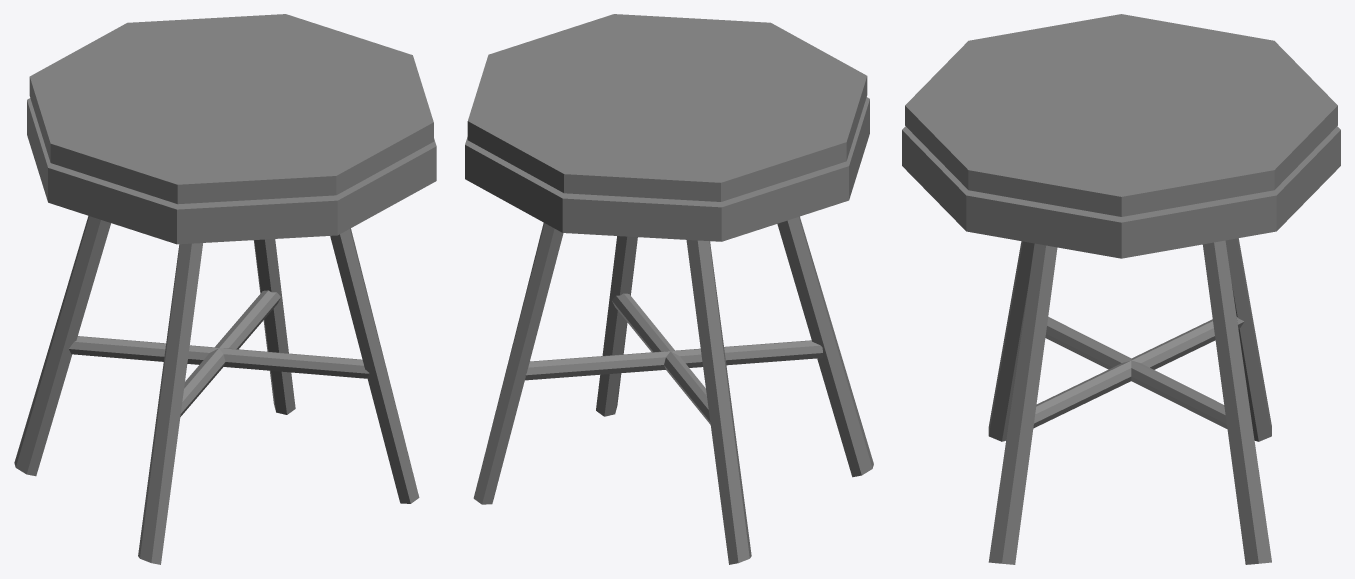
File: g_o_SofaTable.fbx
3 views of the same model, side by side, from view 1: azimuth 30°, elevation 25°; view 2: azimuth 150°, elevation 25°; view 3: azimuth 270°, elevation 25° (orthographic). The views are drawn at different scales.
Parts seen in each view (by area): view 1: g_o_table; view 2: g_o_table; view 3: g_o_table.
Part boxes in pixels (<box>): g_o_table: <box>14,14,436,564</box>; g_o_table: <box>465,14,873,564</box>; g_o_table: <box>902,14,1340,564</box>.
Bounding box in the file's own units: 0.5856 × 0.5923 × 0.5856.
